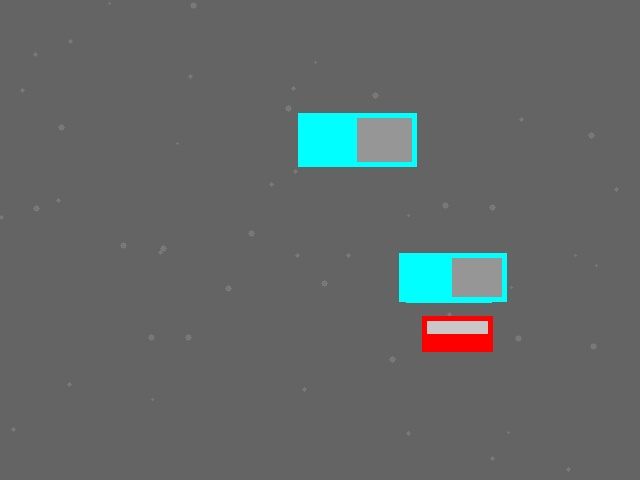car: (422, 316, 492, 351)
truck: (298, 113, 416, 166), (399, 253, 506, 301), (406, 264, 491, 302)
